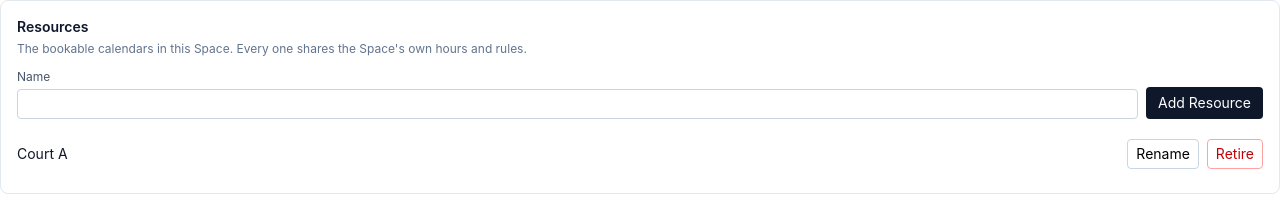
Test: ResourcesPanel › cancels a rename without saving
expect the list item with test id "resource-1" is shown: met, box [17,131,1263,177]
Click the button with test id "resource-1-rename-start". click: (1163, 154)
box: [1127,139,1199,169]
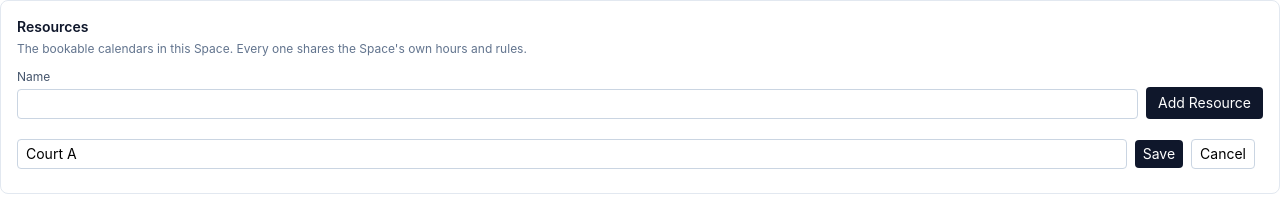
Replace the text in the field with test id "resource-1-rename-input" with "Something else". click: (572, 154)
box: [17,139,1127,169]
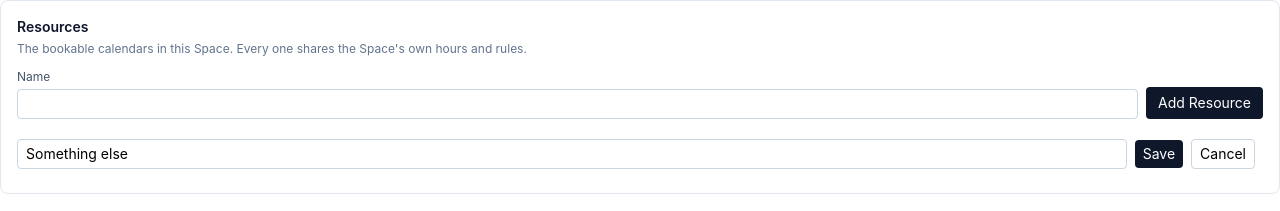
Click the button with test id "resource-1-rename-cancel". click: (1223, 154)
box: [1191,139,1255,169]
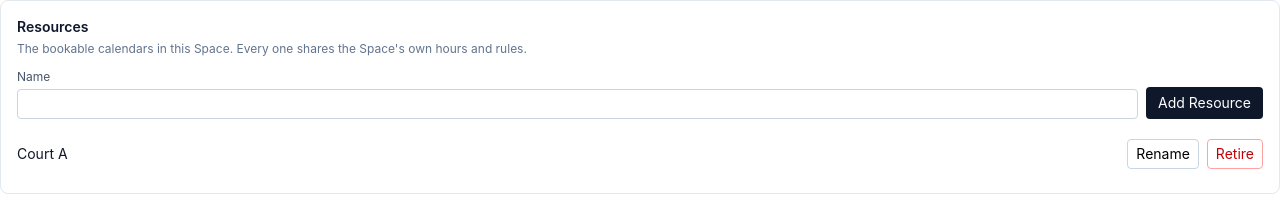
expect the text with test id "resource-1-name" reads "Court A": met, box [17,145,68,162]
